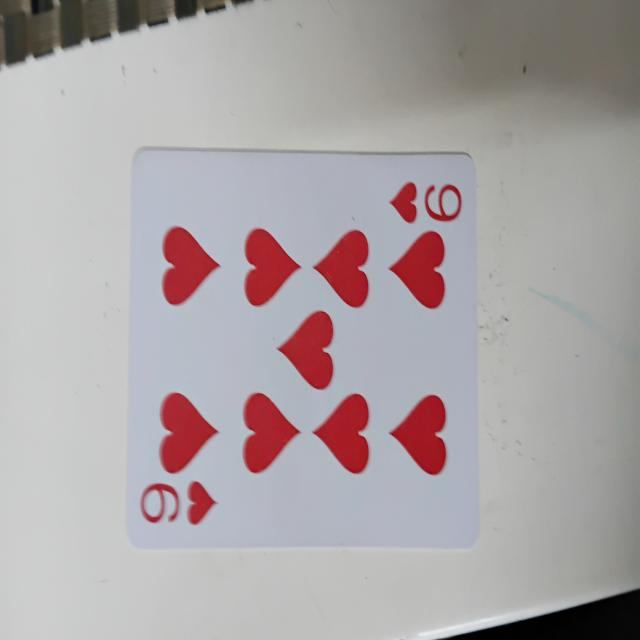9H: (127, 146, 482, 551)
